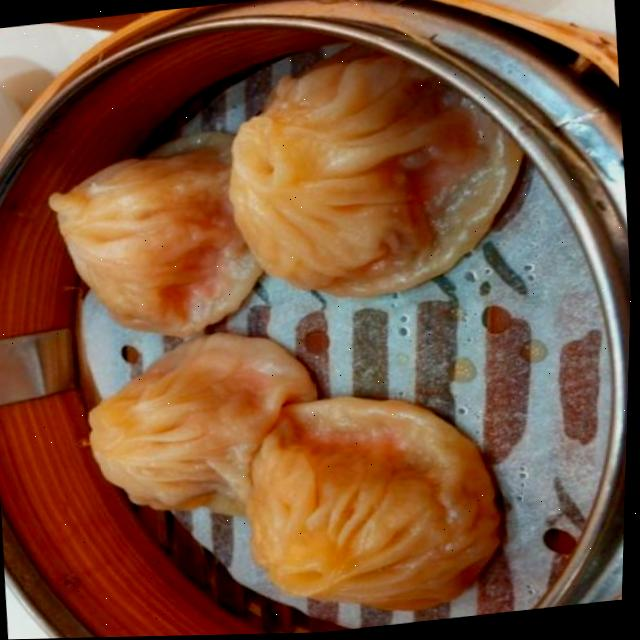带馅早点: (0, 30, 624, 640)
